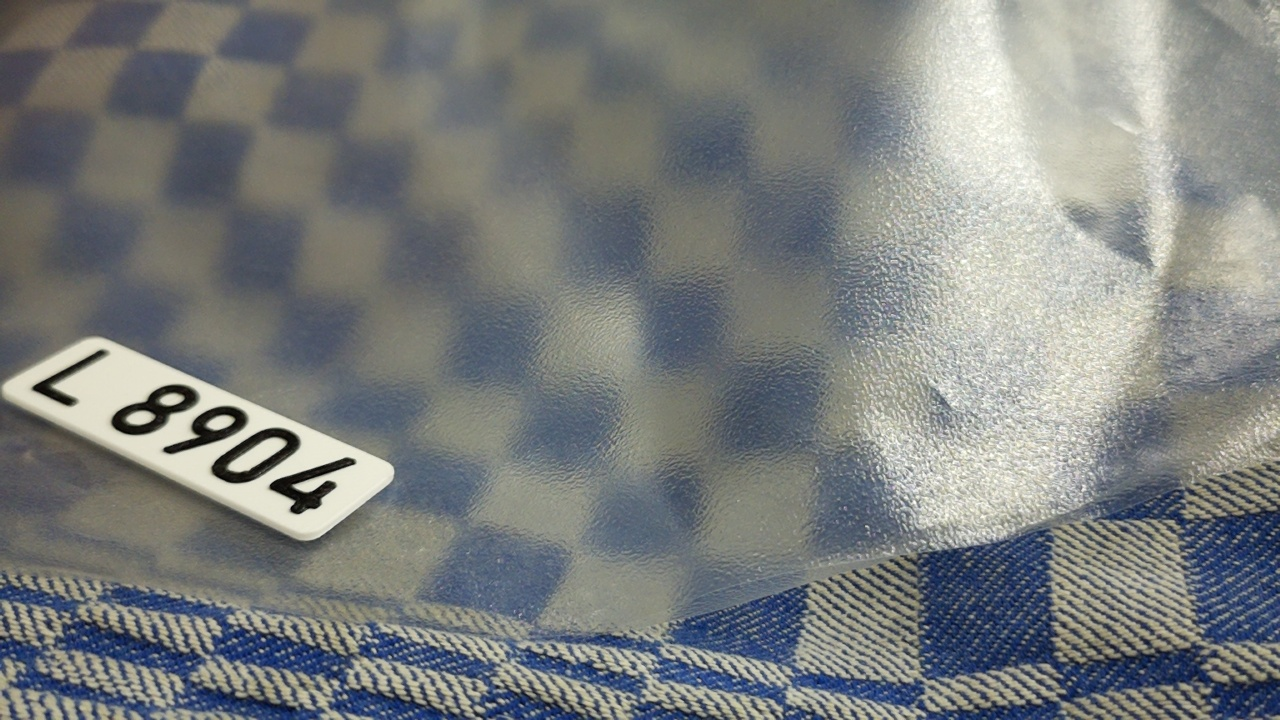license_plate: (2, 328, 399, 549)
